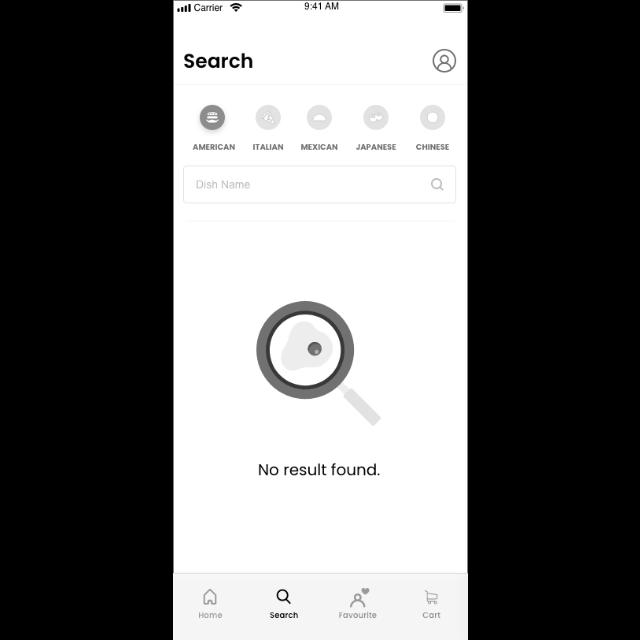icon: (432, 49, 456, 73), (350, 587, 370, 607), (202, 588, 218, 606), (276, 588, 292, 606), (430, 178, 444, 192), (425, 590, 437, 604)
image: (255, 301, 381, 427), (199, 105, 225, 132), (255, 105, 281, 131), (363, 105, 389, 131), (307, 105, 331, 131), (420, 105, 444, 131)
input: (183, 166, 455, 204)
text: (258, 462, 380, 476), (184, 54, 253, 68), (196, 181, 250, 189), (338, 612, 377, 620), (192, 144, 235, 150), (252, 144, 284, 152), (356, 144, 396, 150), (300, 144, 338, 150), (415, 144, 449, 150), (198, 611, 222, 619), (269, 612, 299, 618), (421, 612, 441, 618)
uppertaskbar: (175, 0, 468, 14)
